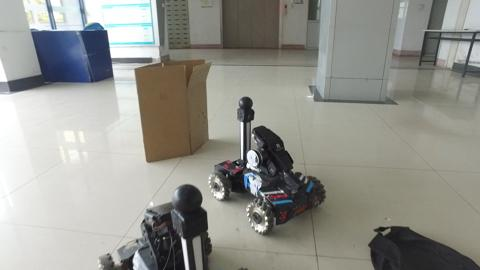box: (132, 58, 209, 158)
chariot: (210, 91, 329, 236)
